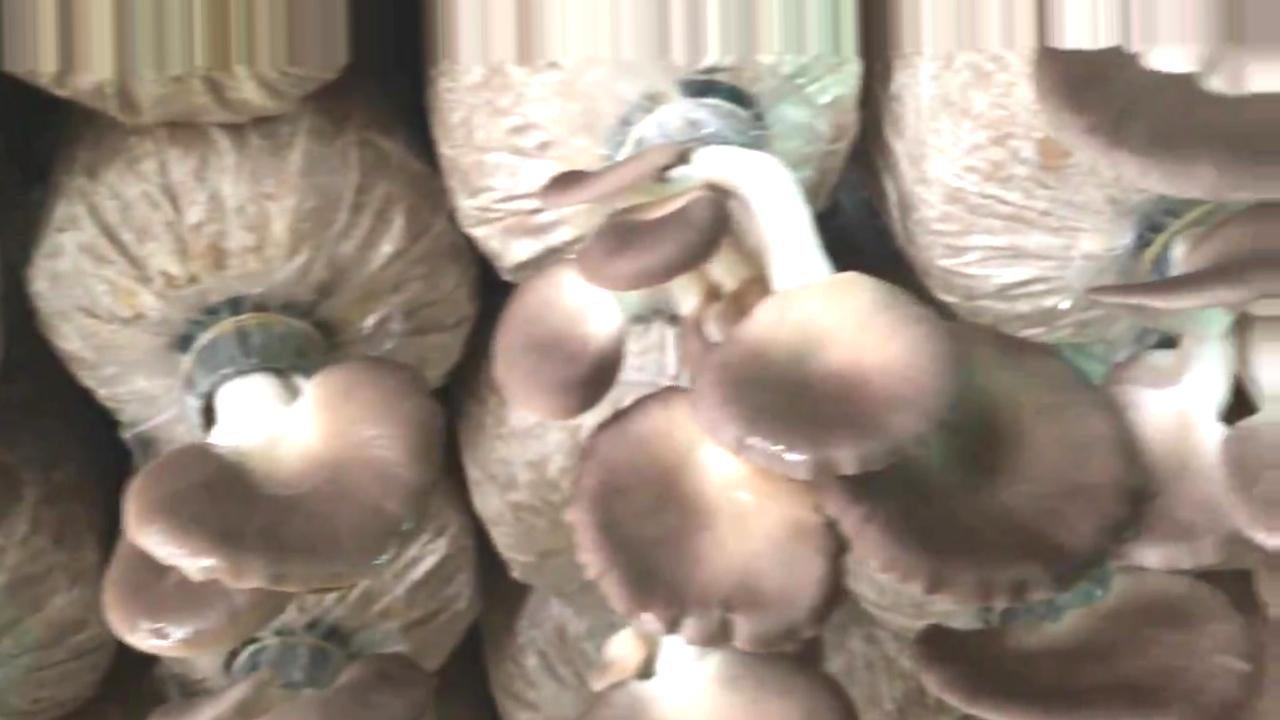nam: (491, 82, 1156, 656), (100, 299, 452, 662), (1102, 199, 1280, 572), (899, 564, 1253, 720), (1025, 45, 1280, 197)
